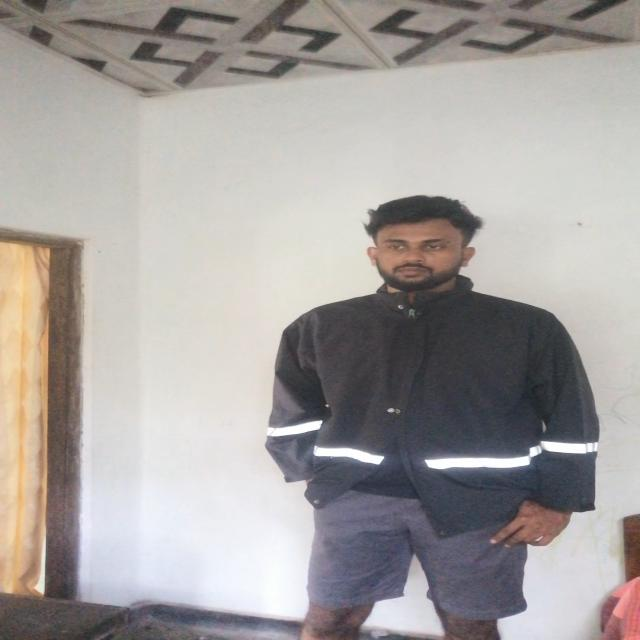Jacket_Wearer: (233, 281, 618, 518)
